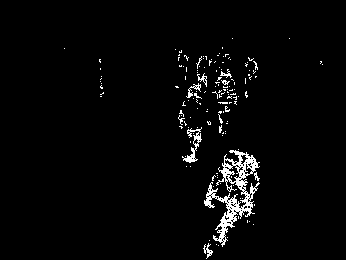person: (206, 145, 260, 257), (181, 82, 211, 169)
